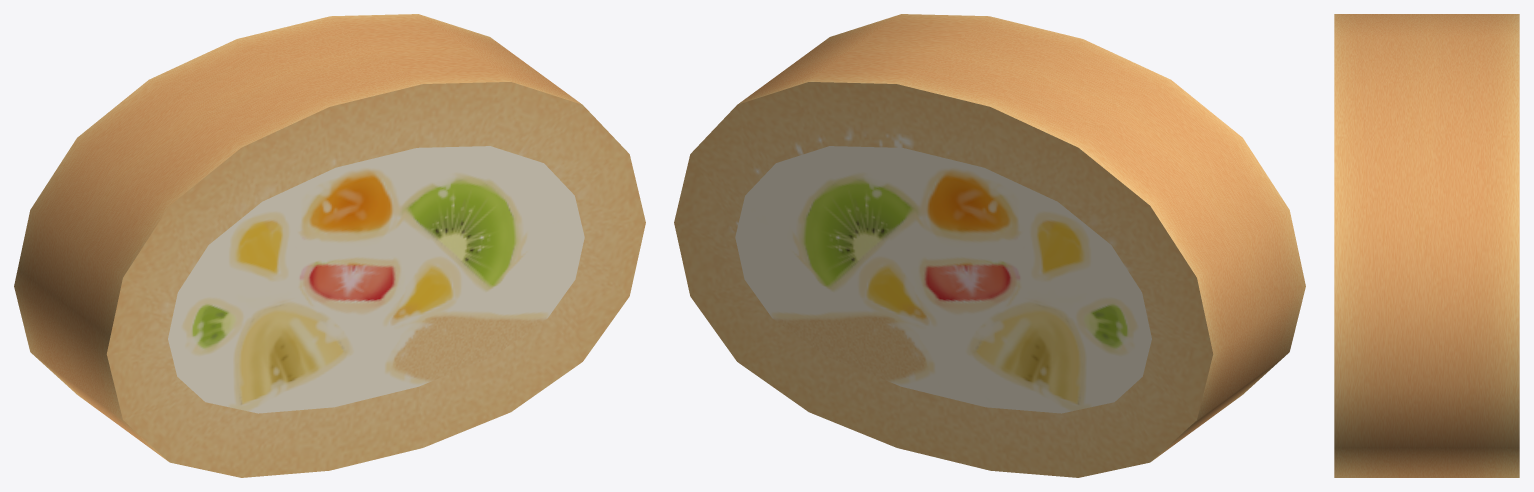
The model's file is rollcake3.fbx.
3 views of the same model, side by side, from view 1: azimuth 30°, elevation 25°; view 2: azimuth 150°, elevation 25°; view 3: azimuth 270°, elevation 25° (orthographic).
Parts seen in each view (by area): view 1: Cylinder001; view 2: Cylinder001; view 3: Cylinder001.
Part boxes in pixels (bbox=[...]): Cylinder001: bbox=[14, 14, 645, 477]; Cylinder001: bbox=[674, 14, 1305, 477]; Cylinder001: bbox=[1334, 14, 1519, 477].
Size of the model in its own units: 39.2 by 25.28 by 11.67.
Materials: 1 (1 with a texture image).
